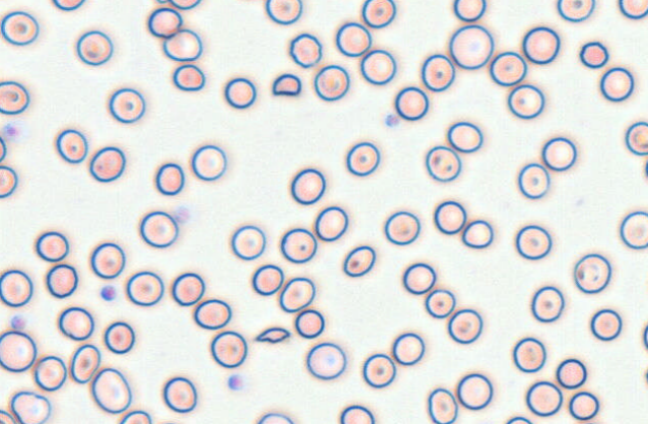PLT: (0, 119, 28, 143), (10, 308, 30, 332), (99, 283, 119, 303), (228, 372, 249, 391), (385, 112, 402, 129)
RBC: (449, 24, 494, 69), (90, 367, 131, 413), (305, 341, 346, 380), (573, 252, 611, 294), (0, 330, 37, 372), (139, 210, 178, 248), (522, 26, 560, 64), (456, 372, 493, 410), (210, 330, 247, 368), (126, 270, 164, 306), (279, 227, 317, 263), (75, 30, 113, 66), (0, 10, 39, 45), (10, 390, 51, 423), (525, 380, 562, 416), (278, 276, 315, 312), (425, 145, 461, 182), (359, 49, 396, 85), (313, 64, 349, 101), (190, 144, 226, 181), (507, 83, 544, 119), (515, 224, 552, 260), (108, 87, 145, 123), (489, 51, 527, 86), (420, 53, 455, 91), (162, 28, 202, 61), (335, 21, 371, 57), (89, 146, 125, 182), (162, 376, 197, 413), (290, 167, 325, 204), (383, 210, 420, 245), (90, 242, 125, 279), (447, 308, 482, 344), (230, 224, 265, 260), (57, 306, 94, 340), (530, 285, 564, 322), (0, 269, 33, 307), (69, 344, 101, 383), (599, 66, 634, 101), (541, 136, 576, 171), (345, 141, 380, 176), (33, 355, 67, 391), (362, 352, 396, 388), (314, 205, 348, 241), (512, 336, 546, 372), (517, 162, 550, 199), (193, 298, 231, 329), (171, 272, 205, 306), (394, 86, 428, 120), (45, 263, 78, 298), (289, 32, 322, 67), (55, 128, 88, 163), (446, 121, 483, 152), (619, 210, 648, 249), (433, 200, 466, 234), (427, 387, 458, 423), (391, 332, 424, 365), (402, 262, 436, 294), (147, 7, 182, 38), (103, 321, 135, 354), (342, 245, 375, 277), (590, 308, 622, 341), (35, 231, 69, 262), (251, 263, 283, 295), (224, 77, 256, 109), (154, 162, 184, 195), (0, 80, 29, 114), (361, 0, 396, 28), (555, 358, 586, 389), (424, 288, 455, 318), (461, 219, 493, 248), (265, 0, 302, 25), (172, 63, 205, 91), (294, 308, 324, 338), (568, 391, 599, 420), (557, 0, 595, 22), (624, 121, 648, 155), (579, 41, 609, 68), (453, 0, 486, 21), (339, 404, 374, 423), (0, 165, 17, 198), (618, 0, 647, 19), (118, 409, 151, 423), (256, 412, 294, 423), (51, 0, 85, 11), (168, 0, 201, 9), (0, 409, 16, 423), (505, 415, 532, 423), (642, 321, 648, 351), (0, 136, 6, 161), (154, 419, 182, 424), (644, 269, 648, 296), (644, 156, 648, 182), (644, 365, 648, 390), (235, 0, 263, 3), (152, 0, 169, 4)
Schistocyte: (273, 71, 302, 96), (255, 327, 293, 345)
